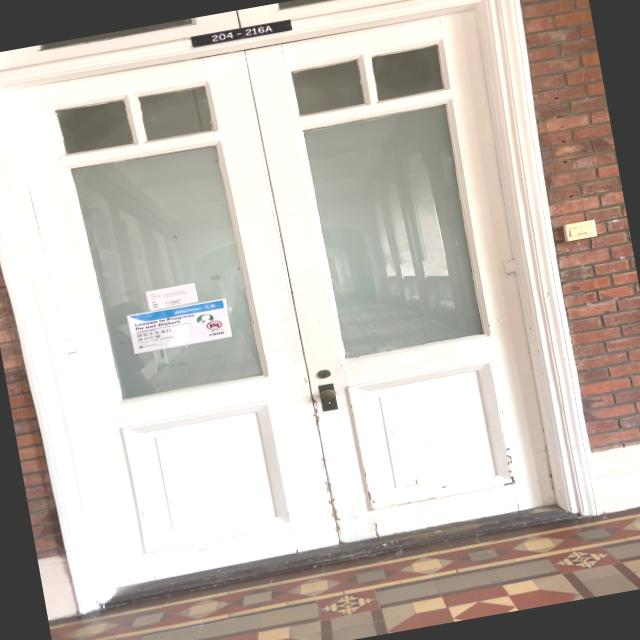room204: (180, 15, 294, 52)
